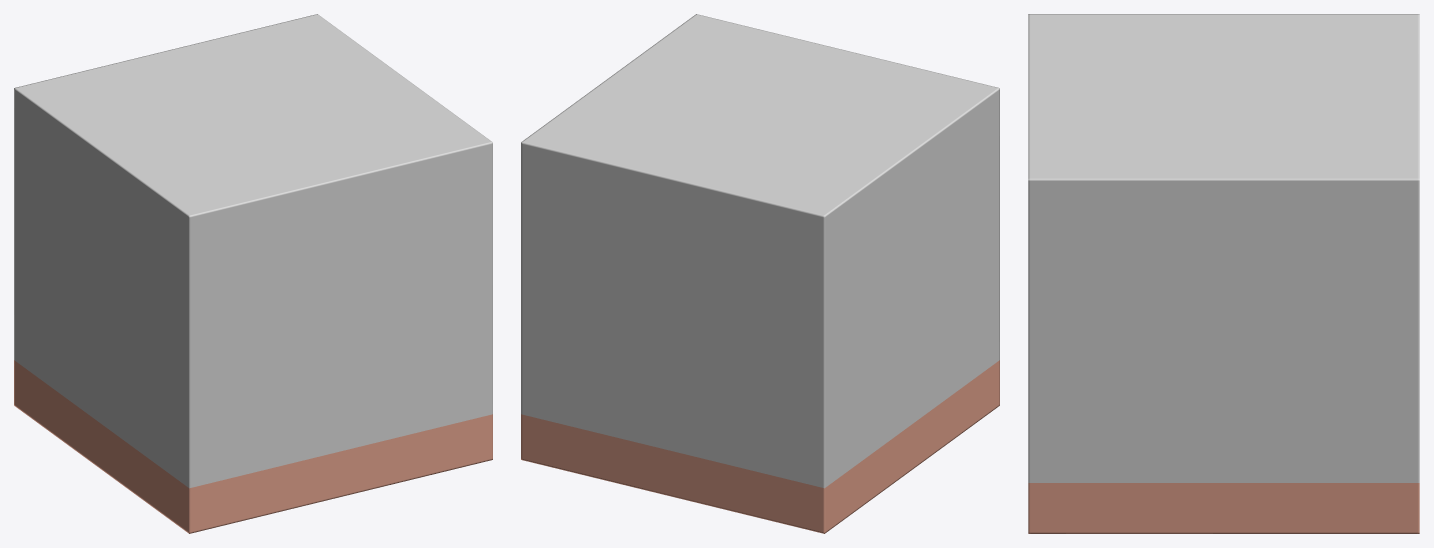
Rendered from Wall_Block.fbx.
The picture shows the model from 3 angles, left to right: view 1: azimuth 30°, elevation 25°; view 2: azimuth 150°, elevation 25°; view 3: azimuth 270°, elevation 25°; orthographic projection. The views are drawn at different scales.
Parts seen in each view (by area): view 1: Wall, Wall Lining; view 2: Wall, Wall Lining; view 3: Wall, Wall Lining.
Boxes of the visible parts, left/top/right/bottom form: Wall: left=14, top=14, right=492, bottom=488; Wall Lining: left=14, top=360, right=492, bottom=533; Wall: left=521, top=14, right=999, bottom=488; Wall Lining: left=521, top=360, right=999, bottom=533; Wall: left=1028, top=14, right=1419, bottom=482; Wall Lining: left=1028, top=483, right=1419, bottom=533.
Size of the model in its own units: 200 by 200 by 200.
